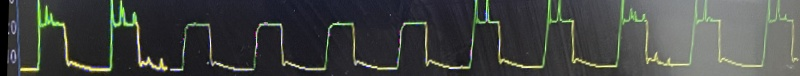hydrop_pressure: (449, 0, 800, 76), (22, 0, 169, 76)
normal_pressure: (177, 14, 451, 76)
